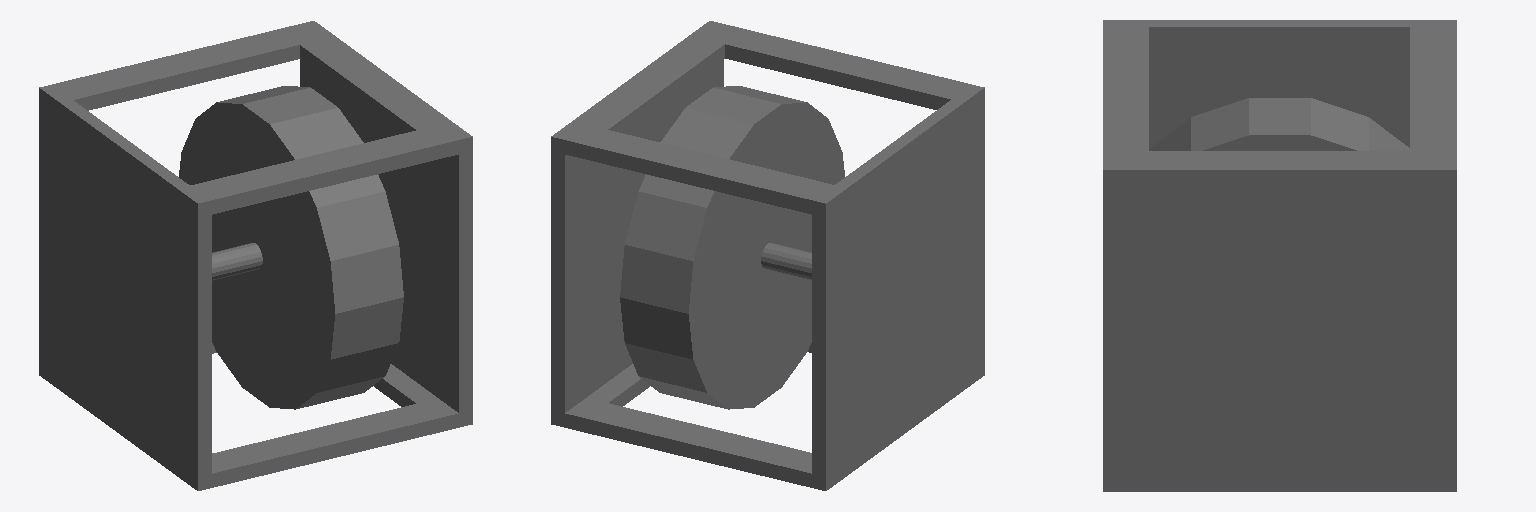
URDF robot description (cube_with_wheels):
<?xml version="1.0"?>

<robot name="cube_with_wheels">

  <!-- Materials -->
  <material name="grey">
    <color rgba="0.5 0.5 0.5 1"/>
  </material>

  <!-- Links -->
  <link name="base_link">
    <visual>
      <origin xyz="0 0 0" rpy="0 0 0"/>
      <geometry>
        <mesh filename="BaseCube.obj"/>
      </geometry>
      <material name="grey"/>
    </visual>
  </link>

  <link name="wheel_link_1">
    <inertial>
      <mass value="0.1"/>
      <origin xyz="0 0 0" rpy="0 0 0"/>
      <inertia ixx="0.0001" ixy="0" ixz="0" iyy="0.0001" iyz="0" izz="0.0001"/>
    </inertial>
    <visual>
      <origin xyz="0 0 0" rpy="0 0 0"/>
      <geometry>
        <mesh filename="ReactionWheel.obj"/>
      </geometry>
      <material name="grey"/>
    </visual>
  </link>



  <!-- Joints -->
  <joint name="joint_wheel_1" type="continuous">
    <parent link="base_link"/>
    <child link="wheel_link_1"/>
    <origin xyz="0 0 0" rpy="0 0 0"/>
    <axis xyz="1 0 0"/>
  </joint>


</robot>

--- What the picture shows (computed from the rendered views, not written in the file) ---
3 views of the same robot in one strip: view 1: azimuth 30°, elevation 25°; view 2: azimuth 150°, elevation 25°; view 3: azimuth 270°, elevation 25° (orthographic).
Model cube_with_wheels with 2 links and 1 joints (1 continuous), rooted at base_link, posed all joints at 0.
Visible links, largest first — view 1: base_link, wheel_link_1; view 2: base_link, wheel_link_1; view 3: base_link, wheel_link_1.
Link boxes in pixels (x1=…): base_link: x1=39, y1=21, x2=472, y2=490; wheel_link_1: x1=179, y1=86, x2=403, y2=409; base_link: x1=551, y1=21, x2=984, y2=490; wheel_link_1: x1=620, y1=86, x2=844, y2=409; base_link: x1=1103, y1=20, x2=1456, y2=491; wheel_link_1: x1=1149, y1=98, x2=1409, y2=150.
Size in the robot's own frame: 100 by 100 by 100 metres.
Meshes: 2 distinct files referenced, 2 mesh visuals loaded (2 OBJ).